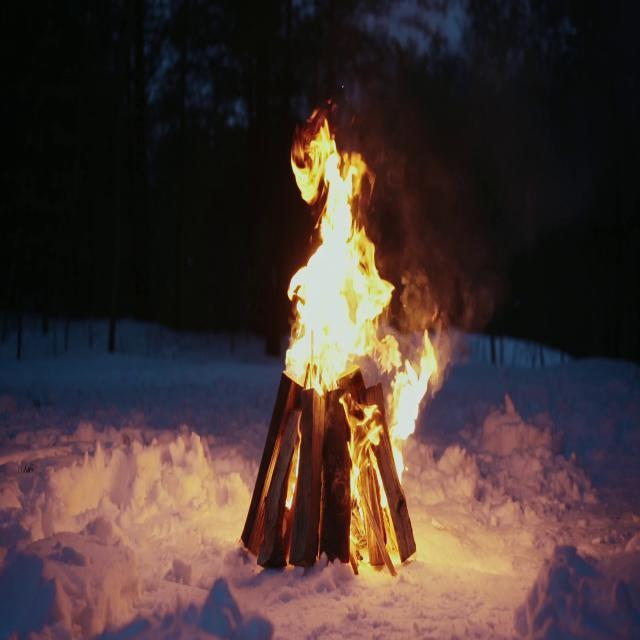Fire: (275, 104, 443, 521)
